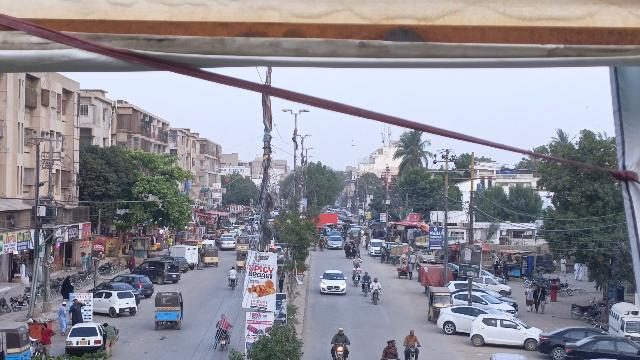Bike: (330, 341, 350, 360), (404, 343, 421, 360), (217, 333, 228, 352), (371, 288, 382, 306), (361, 280, 371, 297), (228, 277, 240, 291), (352, 272, 361, 288)
Car: (469, 312, 540, 349), (534, 323, 604, 360), (436, 304, 485, 336), (63, 321, 105, 356), (93, 289, 138, 317), (135, 260, 181, 283), (115, 272, 155, 296), (317, 268, 347, 296)
Person: (102, 320, 119, 356), (56, 299, 68, 334), (329, 326, 351, 345), (39, 322, 52, 354), (68, 297, 83, 322), (524, 284, 536, 313), (402, 328, 421, 345), (382, 338, 397, 359), (214, 315, 232, 331), (539, 286, 548, 314), (533, 284, 540, 313), (370, 275, 383, 289), (226, 265, 239, 278), (360, 271, 372, 283), (352, 264, 362, 274)
Rickshaw: (151, 292, 186, 332), (426, 286, 455, 325), (201, 244, 220, 269), (235, 247, 249, 271)
Truck: (171, 243, 199, 269)
